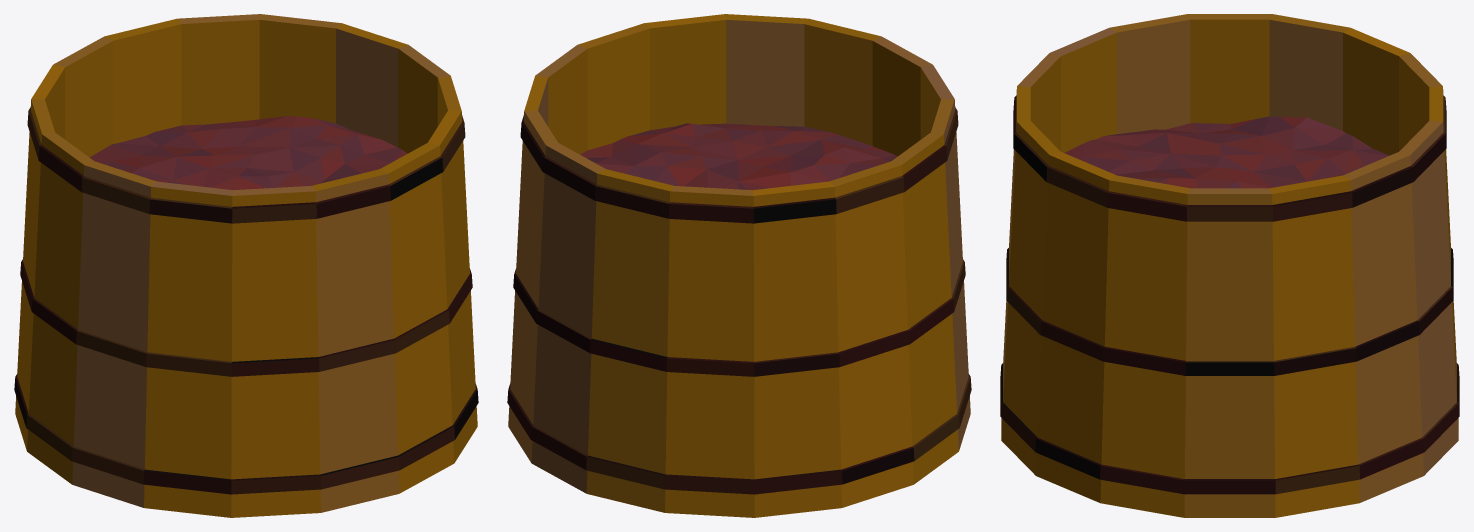
The model's file is TubFullWine.glb.
3 renders of one model, left to right at view 1: azimuth 30°, elevation 25°; view 2: azimuth 150°, elevation 25°; view 3: azimuth 270°, elevation 25°, orthographic.
Parts seen in each view (by area): view 1: TubFullWine; view 2: TubFullWine; view 3: TubFullWine.
Part boxes in pixels (<box>): TubFullWine: <box>14,14,478,517</box>; TubFullWine: <box>507,14,971,517</box>; TubFullWine: <box>1000,14,1459,517</box>.
Size of the model in its own units: 1.97 by 1.5 by 1.97.
